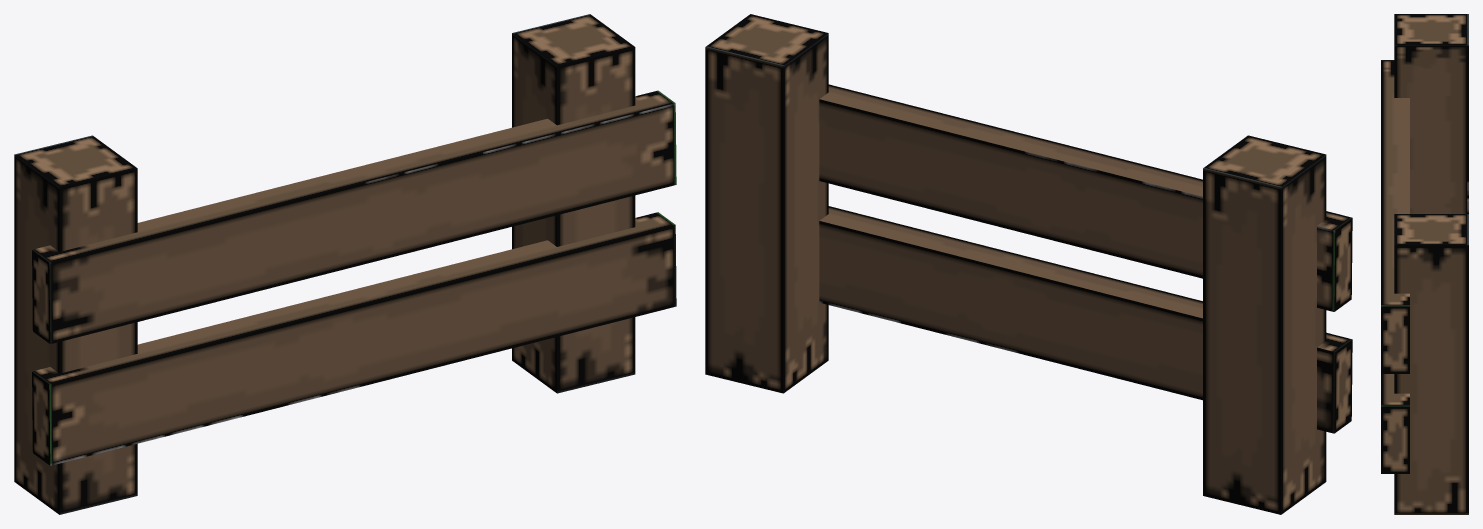
Rendered from deco_winter_fenceLong.FBX.
The picture shows the model from 3 angles, left to right: view 1: azimuth 30°, elevation 25°; view 2: azimuth 150°, elevation 25°; view 3: azimuth 270°, elevation 25°; orthographic projection. The views are drawn at different scales.
Visible parts, largest first — view 1: deco_winter_fenceLong; view 2: deco_winter_fenceLong; view 3: deco_winter_fenceLong.
Boxes of the visible parts, x1,y1,x2,y2 form: deco_winter_fenceLong: (14,14,676,514); deco_winter_fenceLong: (705,14,1352,514); deco_winter_fenceLong: (1381,14,1468,514).
Size of the model in its own units: 4.01 by 2 by 0.5897.
1 material, 1 textured.
